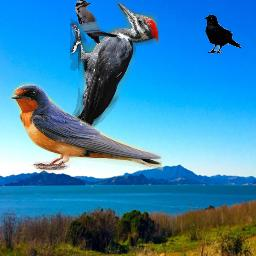Crow: (203, 14, 242, 54)
Swallow: (7, 81, 163, 175)
Woodpecker: (70, 2, 159, 132), (75, 0, 118, 45)
